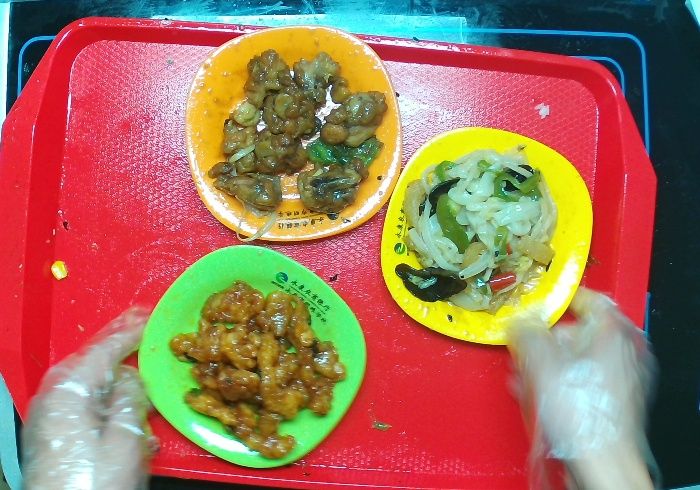YKMZ-Huang_Se_Fang_Die: (378, 118, 607, 359)
YKMZ-Ju_Se_Fang_Die: (173, 18, 410, 247)
YKMZ-Lv_Se_Fang_Die: (133, 240, 369, 476)
